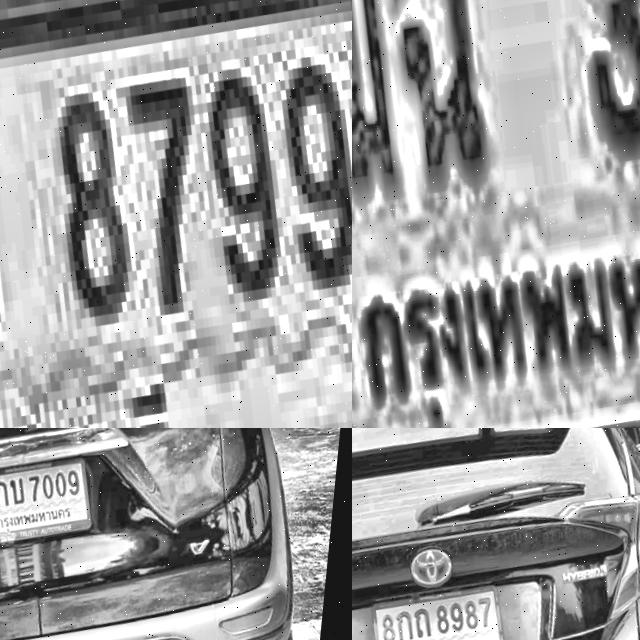license-plate: (0, 0, 352, 428), (352, 0, 640, 428), (0, 444, 108, 548), (369, 569, 522, 640)
